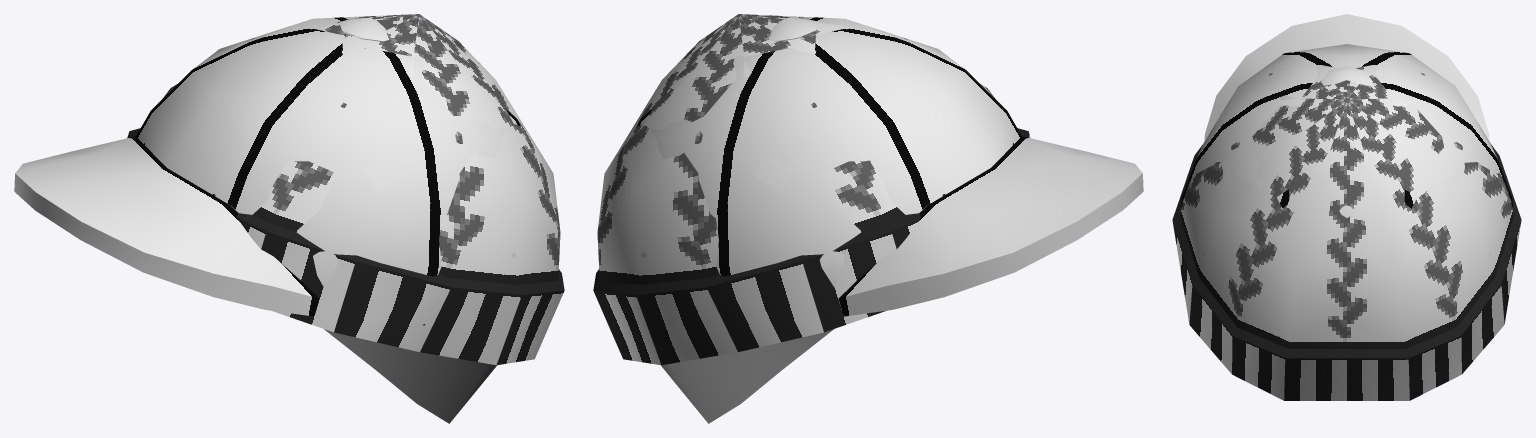
The model's file is hats.glb.
The picture shows the model from 3 angles, left to right: view 1: azimuth 30°, elevation 25°; view 2: azimuth 150°, elevation 25°; view 3: azimuth 270°, elevation 25°; orthographic projection. The views are drawn at different scales.
Visible parts, largest first — view 1: cap, beanie; view 2: cap, beanie; view 3: beanie, cap.
Part boxes in pixels (box(x1,y1,x2,y2)): cap: box(14, 16, 520, 423); beanie: box(127, 14, 564, 365); cap: box(637, 16, 1143, 423); beanie: box(593, 14, 1030, 365); beanie: box(1172, 65, 1521, 400); cap: box(1181, 14, 1512, 256).
Size of the model in its own units: 0.8311 by 0.6372 by 0.6073.
Materials: 3 (2 with a texture image).
